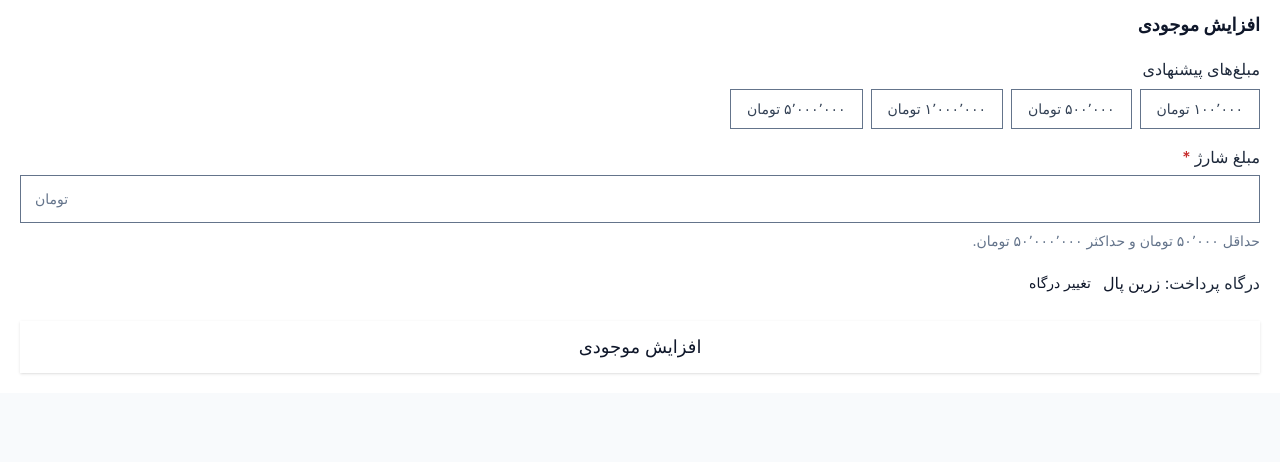
Test: the gateway › 500 server_error: said; the box stays
Type "100000" into the field labelled "مبلغ شارژ *".
click(664, 199); type("100000")  # box [68, 176, 1259, 222]
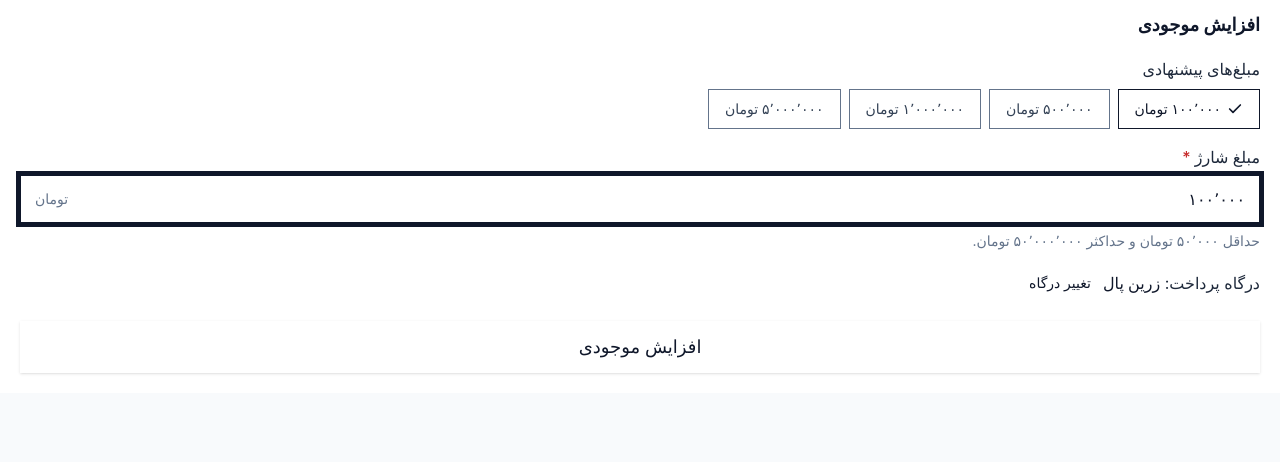
Click the button "افزایش موجودی".
click(640, 347)  # box [20, 321, 1260, 373]
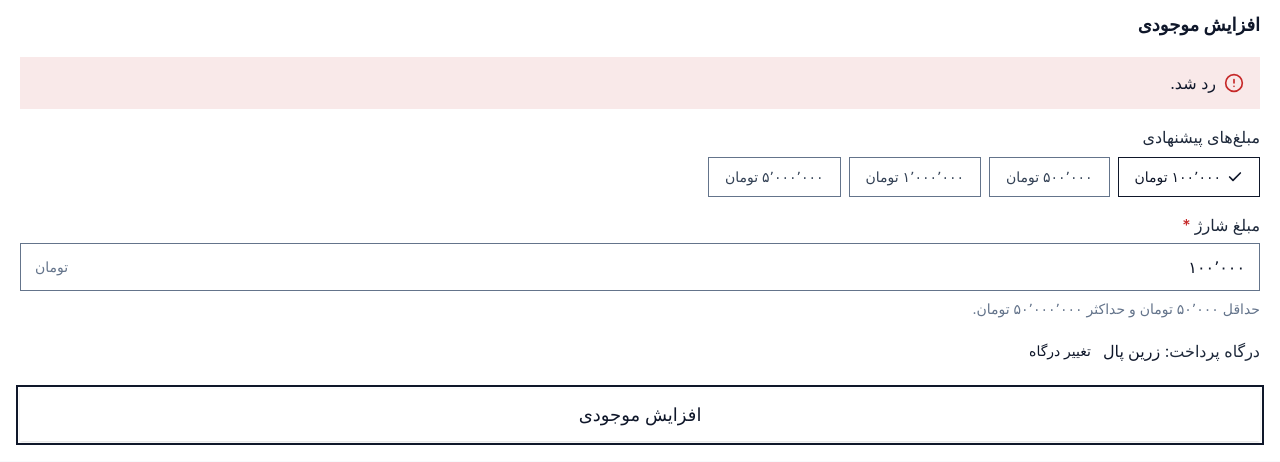
Expected: the button "افزایش موجودی" is shown, [20, 389, 1260, 441]
Expected: the message reads "رد شد.", [1170, 73, 1216, 93]
